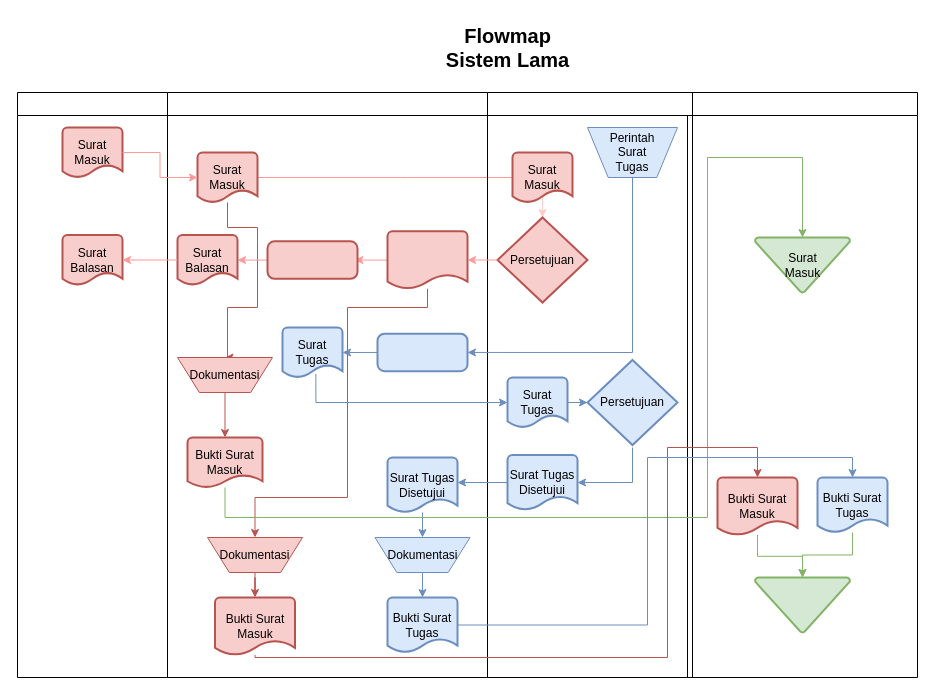
The diagram is 935 pixels wide and 695 high, and some of its shapes have lost their labels. Here are the shapes that lost their labels. From the top down, the box of each, then its label:
(266, 240, 358, 279): Pembuatan Surat Balasan
(386, 230, 468, 289): Surat Masuk Ditindak Lanjut
(376, 332, 468, 372): Pembuatan Surat Tugas
(16, 92, 168, 678): Lembaga Luar
(166, 92, 488, 678): Persuratan TU
(486, 92, 692, 678): Lembaga Dalam
(686, 92, 918, 678): Tata Usaha
(754, 576, 850, 633): Arsip Surat
